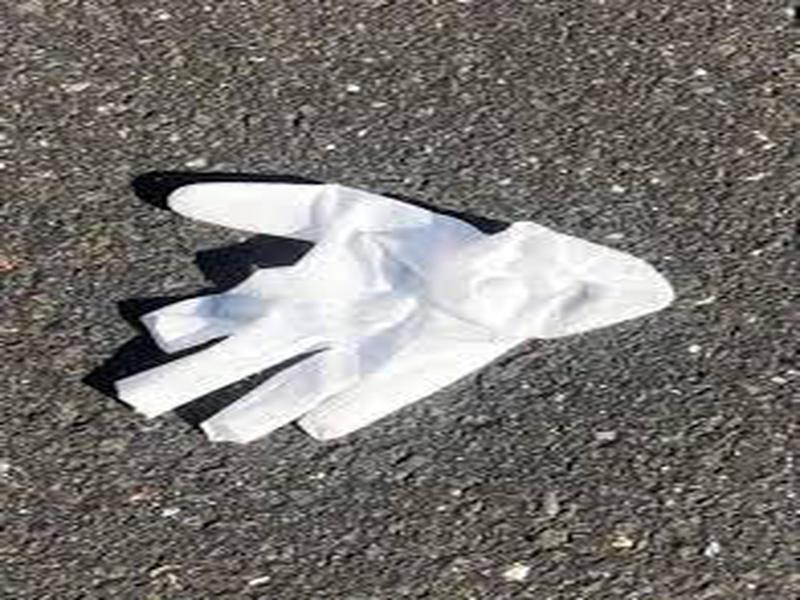gloves: (89, 169, 678, 457)
